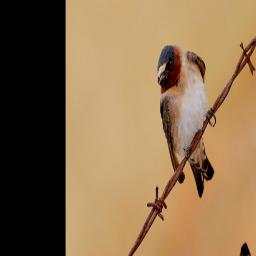Swallow: (137, 13, 238, 213)
